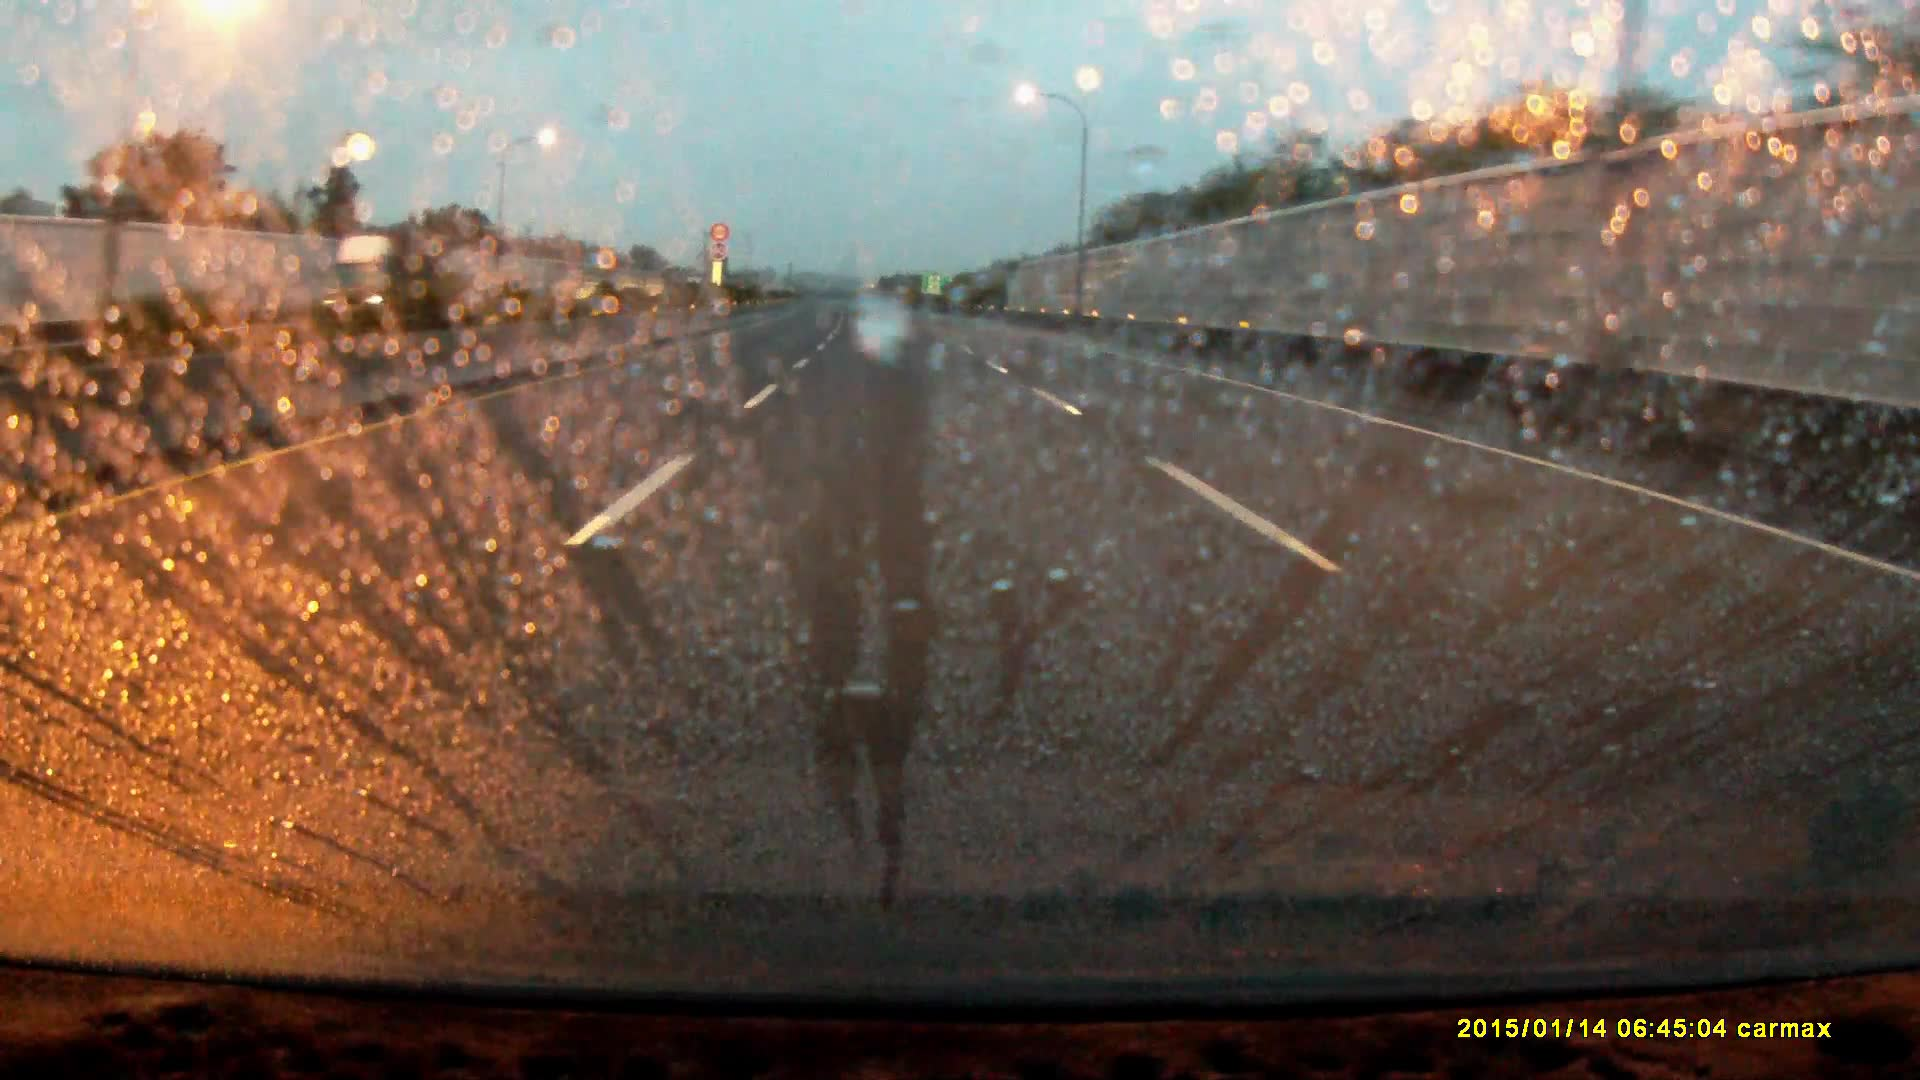vehicle: (326, 227, 448, 320)
